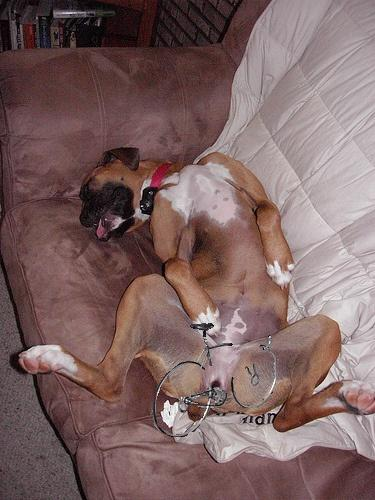tampered: (153, 324, 276, 437)
